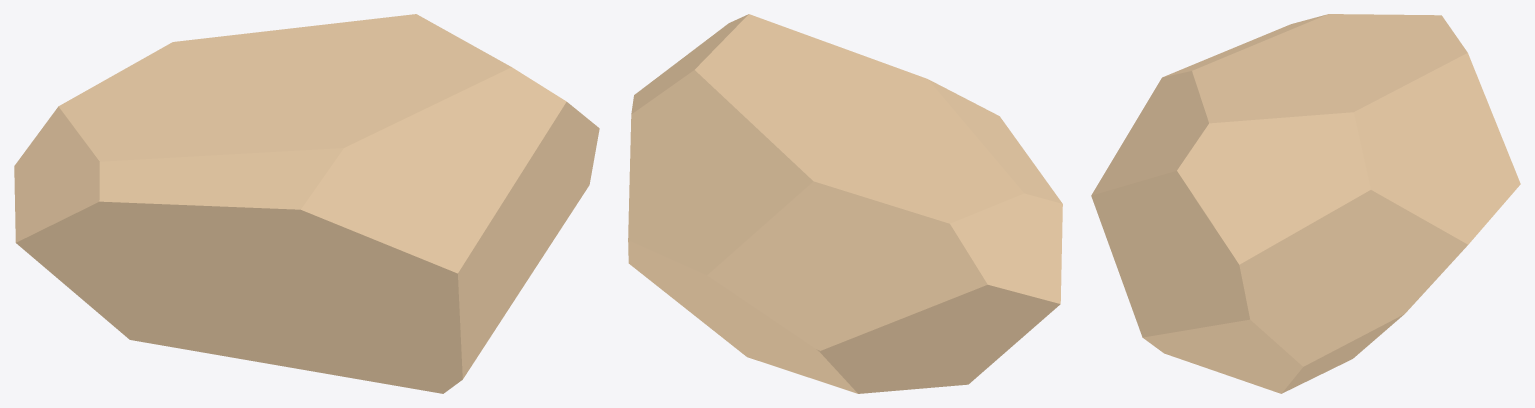
File: stone-diamond.glb
3 views of the same model, side by side, from view 1: azimuth 30°, elevation 25°; view 2: azimuth 150°, elevation 25°; view 3: azimuth 270°, elevation 25° (orthographic). The views are drawn at different scales.
Visible parts, largest first — view 1: stone-diamond; view 2: stone-diamond; view 3: stone-diamond.
Part boxes in pixels (bbox=[...]): stone-diamond: bbox=[14, 14, 599, 393]; stone-diamond: bbox=[628, 14, 1062, 393]; stone-diamond: bbox=[1091, 14, 1520, 393].
Size of the model in its own units: 1.81 by 1 by 1.38.
1 material, 1 textured.
